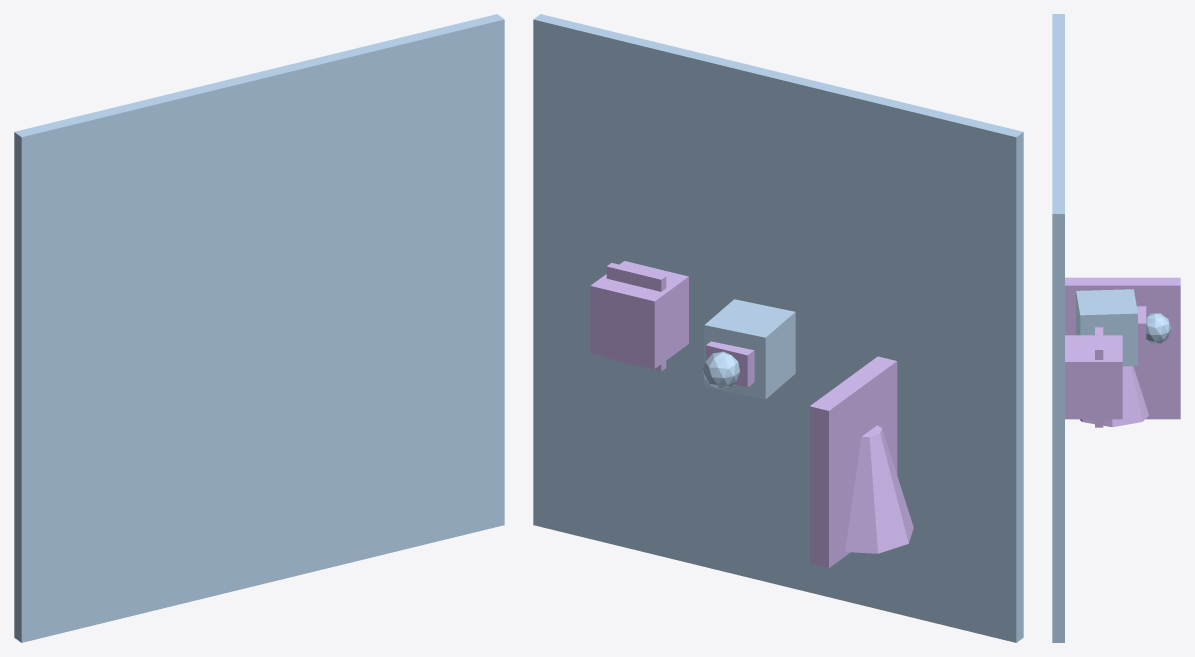
Rendered from fortress-defense-kit.glb.
The picture shows the model from 3 angles, left to right: view 1: azimuth 30°, elevation 25°; view 2: azimuth 150°, elevation 25°; view 3: azimuth 270°, elevation 25°; orthographic projection. The views are drawn at different scales.
Visible parts, largest first — view 1: ENVIRONMENT_GROUND; view 2: ENVIRONMENT_GROUND, ENVIRONMENT_PANEL, OBSTACLE, PROFILE_ENVIRONMENT_DETAIL, PLAYER_BODY, PROFILE_OBSTACLE_DETAIL, PROFILE_PLAYER_HEAD, PROFILE_PLAYER_DETAIL; view 3: ENVIRONMENT_GROUND, ENVIRONMENT_PANEL, OBSTACLE, PLAYER_BODY, PROFILE_ENVIRONMENT_DETAIL, PROFILE_PLAYER_HEAD, PROFILE_PLAYER_DETAIL, PROFILE_OBSTACLE_DETAIL.
Part boxes in pixels (x1=…): ENVIRONMENT_GROUND: x1=14, y1=14, x2=504, y2=642; ENVIRONMENT_GROUND: x1=533, y1=14, x2=1023, y2=642; ENVIRONMENT_PANEL: x1=809, y1=356, x2=897, y2=568; OBSTACLE: x1=590, y1=261, x2=688, y2=368; PROFILE_ENVIRONMENT_DETAIL: x1=845, y1=425, x2=913, y2=553; PLAYER_BODY: x1=704, y1=299, x2=795, y2=399; PROFILE_OBSTACLE_DETAIL: x1=606, y1=263, x2=666, y2=371; PROFILE_PLAYER_HEAD: x1=703, y1=351, x2=739, y2=388; PROFILE_PLAYER_DETAIL: x1=706, y1=341, x2=754, y2=387; ENVIRONMENT_GROUND: x1=1052, y1=14, x2=1064, y2=642; ENVIRONMENT_PANEL: x1=1065, y1=277, x2=1180, y2=419; OBSTACLE: x1=1065, y1=335, x2=1122, y2=419; PLAYER_BODY: x1=1076, y1=289, x2=1137, y2=366; PROFILE_ENVIRONMENT_DETAIL: x1=1080, y1=366, x2=1148, y2=427; PROFILE_PLAYER_HEAD: x1=1146, y1=313, x2=1171, y2=343; PROFILE_PLAYER_DETAIL: x1=1136, y1=306, x2=1146, y2=350; PROFILE_OBSTACLE_DETAIL: x1=1095, y1=327, x2=1103, y2=427.
Bounding box in the file's own units: 9 × 9 × 2.44.
